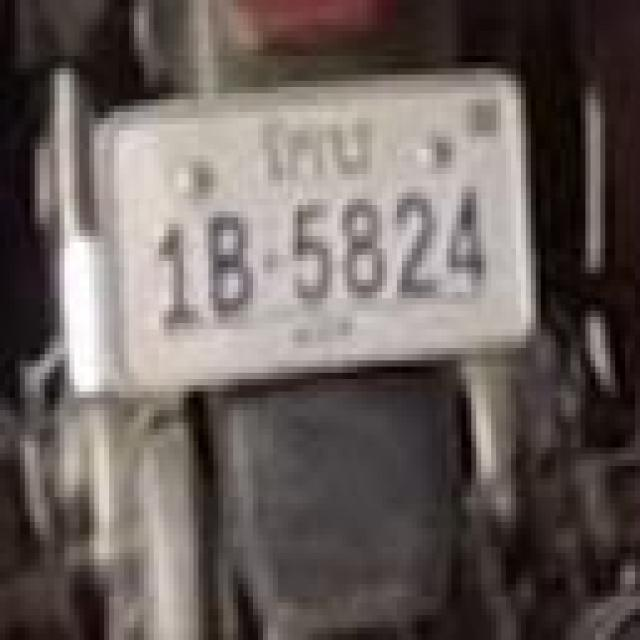Kep: (258, 118, 368, 191)
